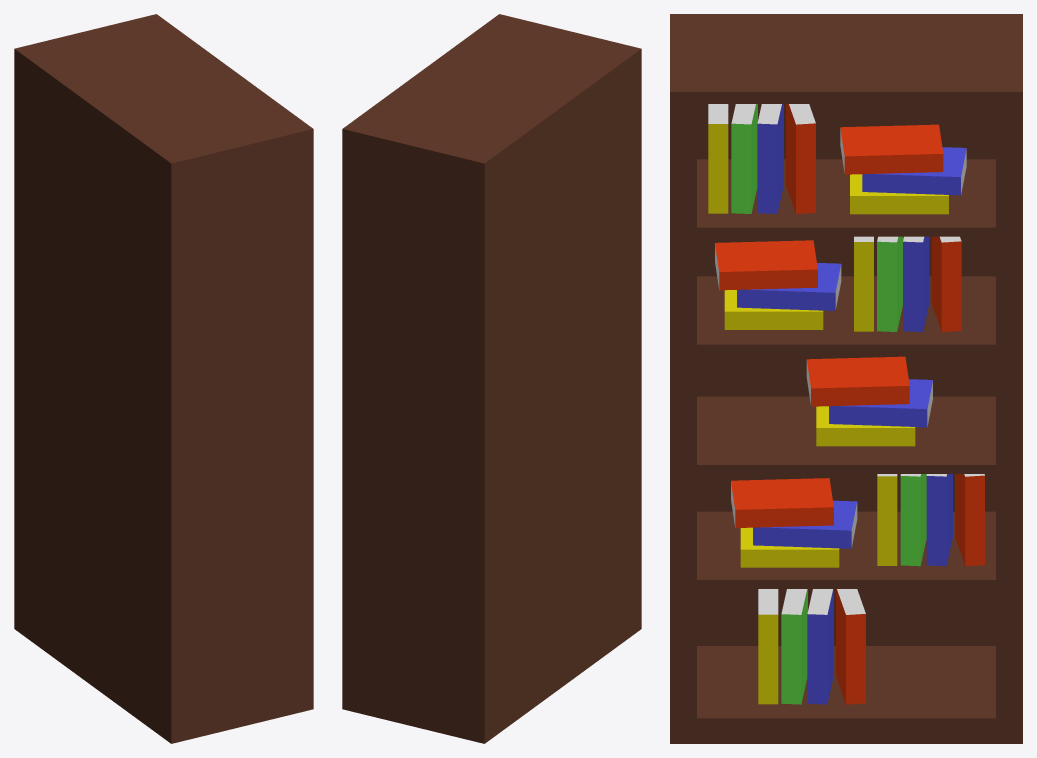
3 views of the same model, side by side, from view 1: azimuth 30°, elevation 25°; view 2: azimuth 150°, elevation 25°; view 3: azimuth 270°, elevation 25° (orthographic). The views are drawn at different scales.
Visible parts, largest first — view 1: Spot_Text.004; view 2: Spot_Text.004; view 3: Spot_Text.004, Cube.138, Cube.144, Cube.141, Cube.147, Cube.135, Cube.123, Cube.133, Cube.134, Cube.121, Cube.122, Cube.127 (+17 smaller).
Part boxes in pixels (bbox=[...]): Spot_Text.004: bbox=[14, 14, 313, 743]; Spot_Text.004: bbox=[342, 14, 641, 743]; Spot_Text.004: bbox=[670, 14, 1022, 743]; Cube.138: bbox=[840, 124, 943, 174]; Cube.144: bbox=[806, 356, 909, 406]; Cube.141: bbox=[715, 240, 817, 290]; Cube.147: bbox=[731, 478, 833, 527]; Cube.135: bbox=[836, 589, 865, 704]; Cube.123: bbox=[786, 104, 815, 214]; Cube.133: bbox=[781, 589, 807, 704]; Cube.134: bbox=[807, 589, 833, 704]; Cube.121: bbox=[731, 104, 757, 213]; Cube.122: bbox=[757, 104, 783, 213]; Cube.127: bbox=[931, 236, 961, 332].
Bounding box in the file's own units: 0.5913 × 1.13 × 2.31.
